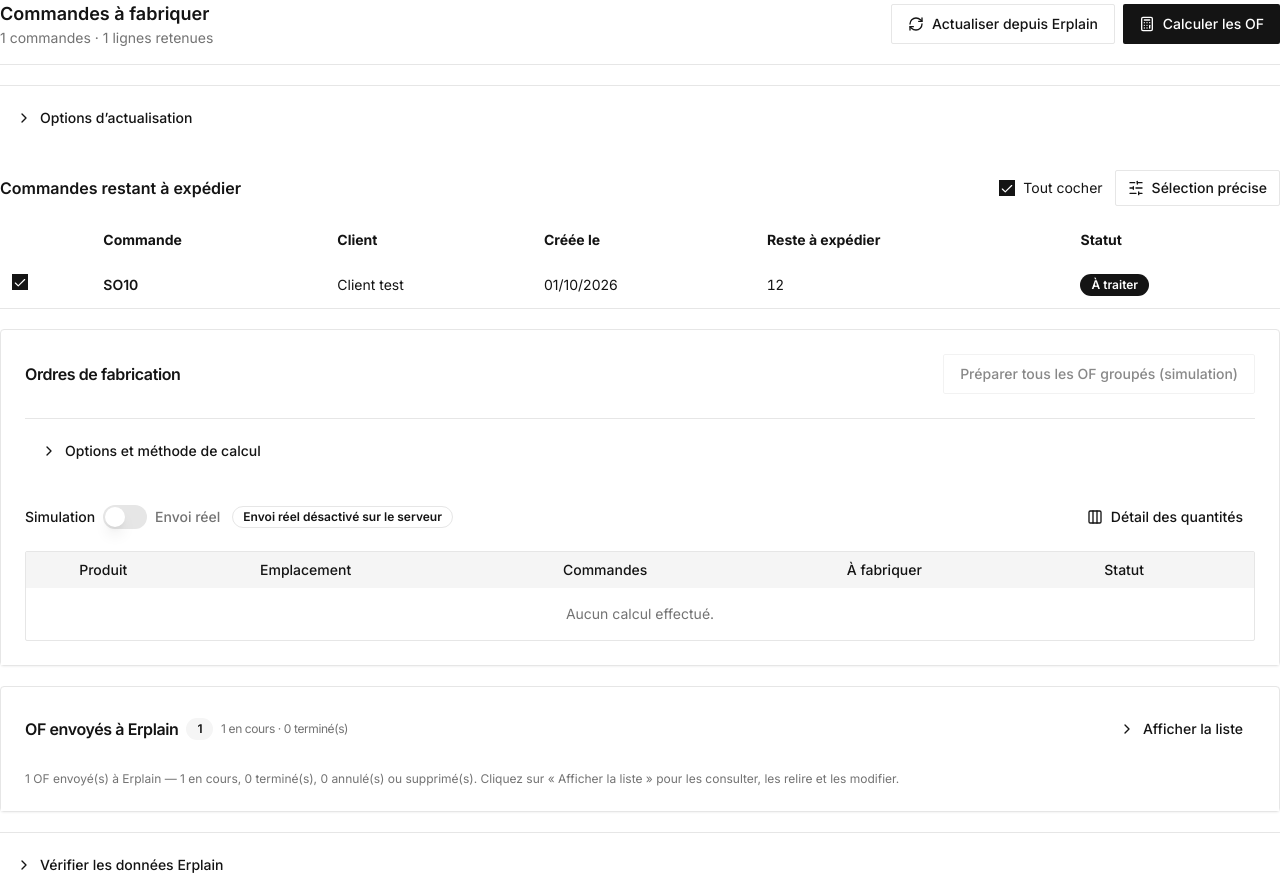
Test case: Workshop order columns › hides and shows columns using the visible checkbox menu
Expected: the text "Client test" is shown, 325,262 -> 532,308
Click the button "Sélection précise": (1197,188) 1115,170 -> 1279,206
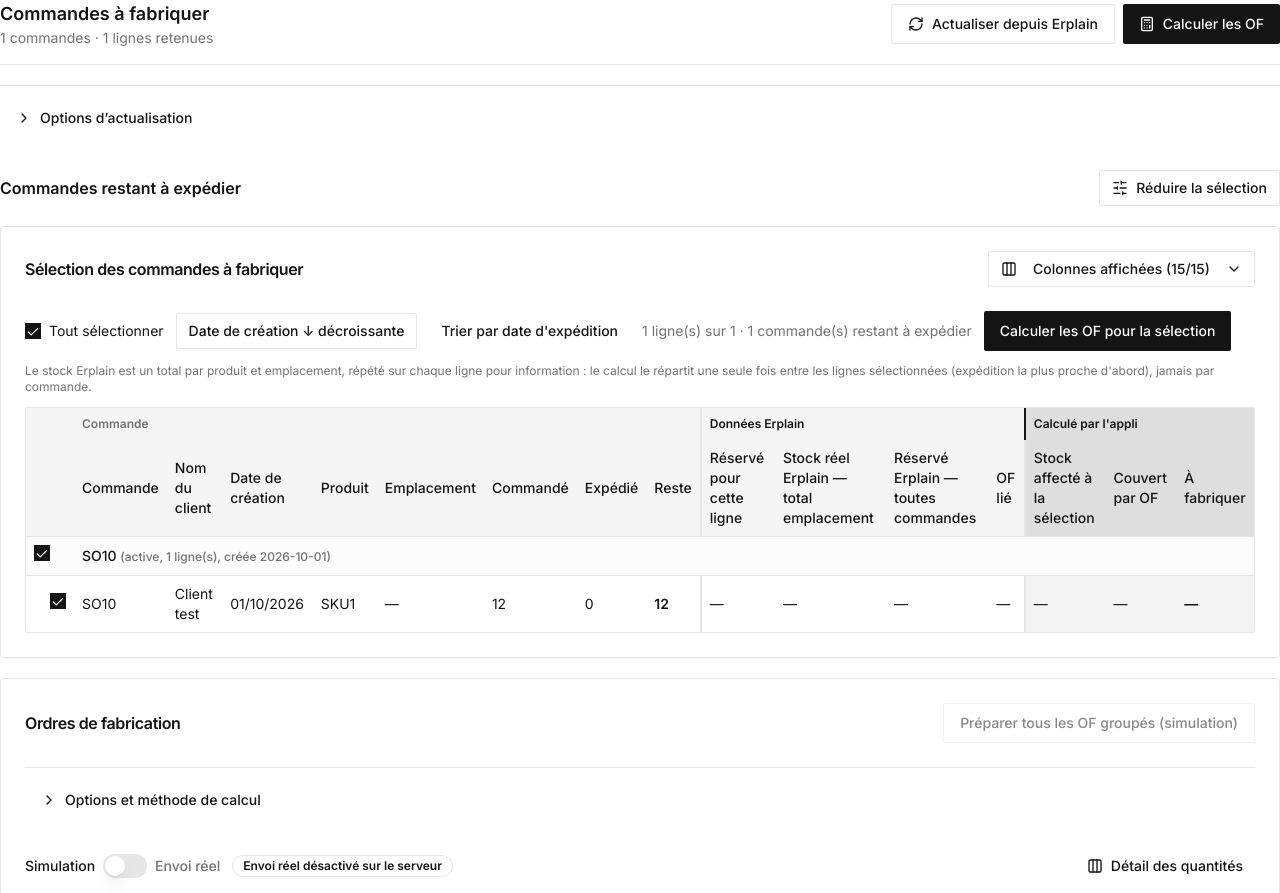
Press Enter in the button "Colonnes affichées (15/15)", box 988,251 -> 1255,287
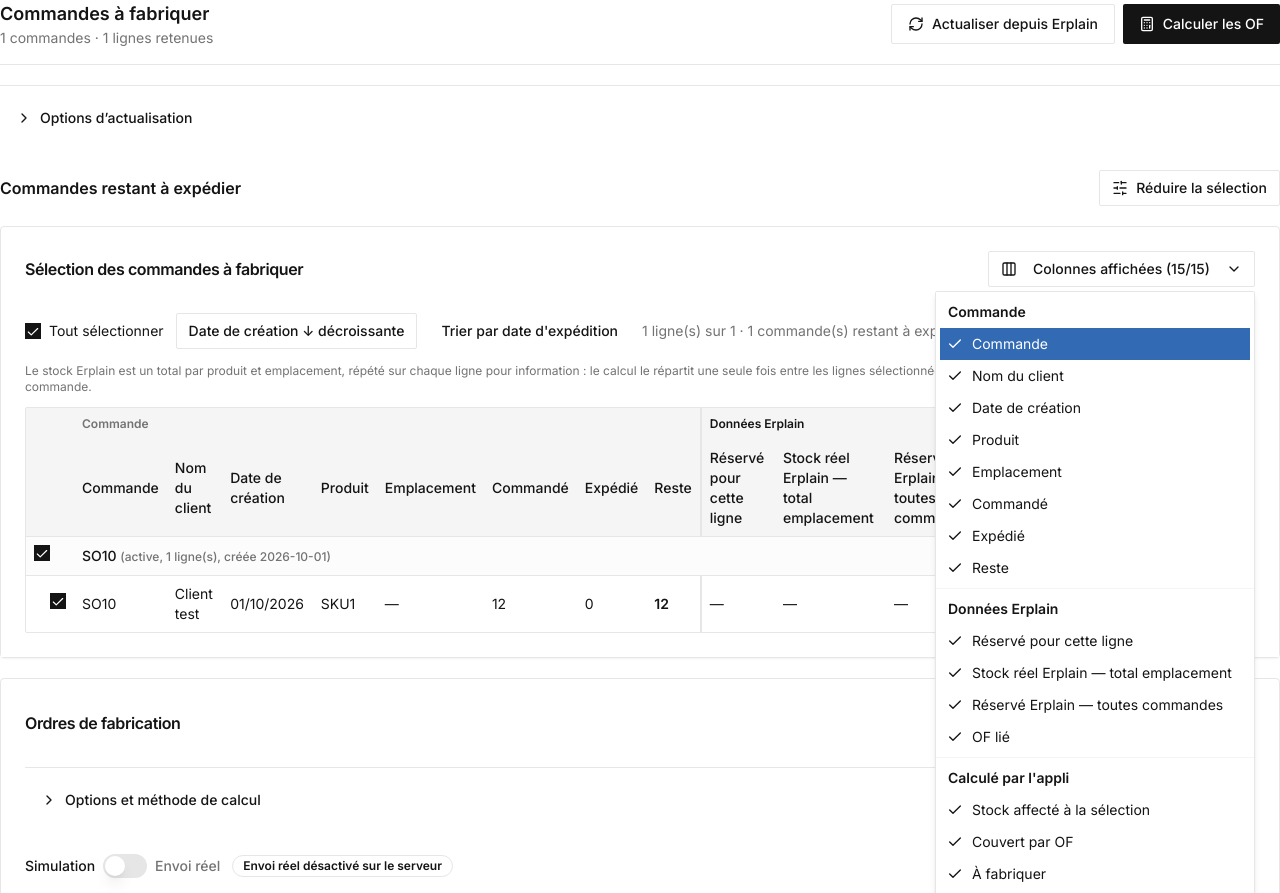
Click the menu item "Nom du client": (1005,376) 947,367 -> 1064,384
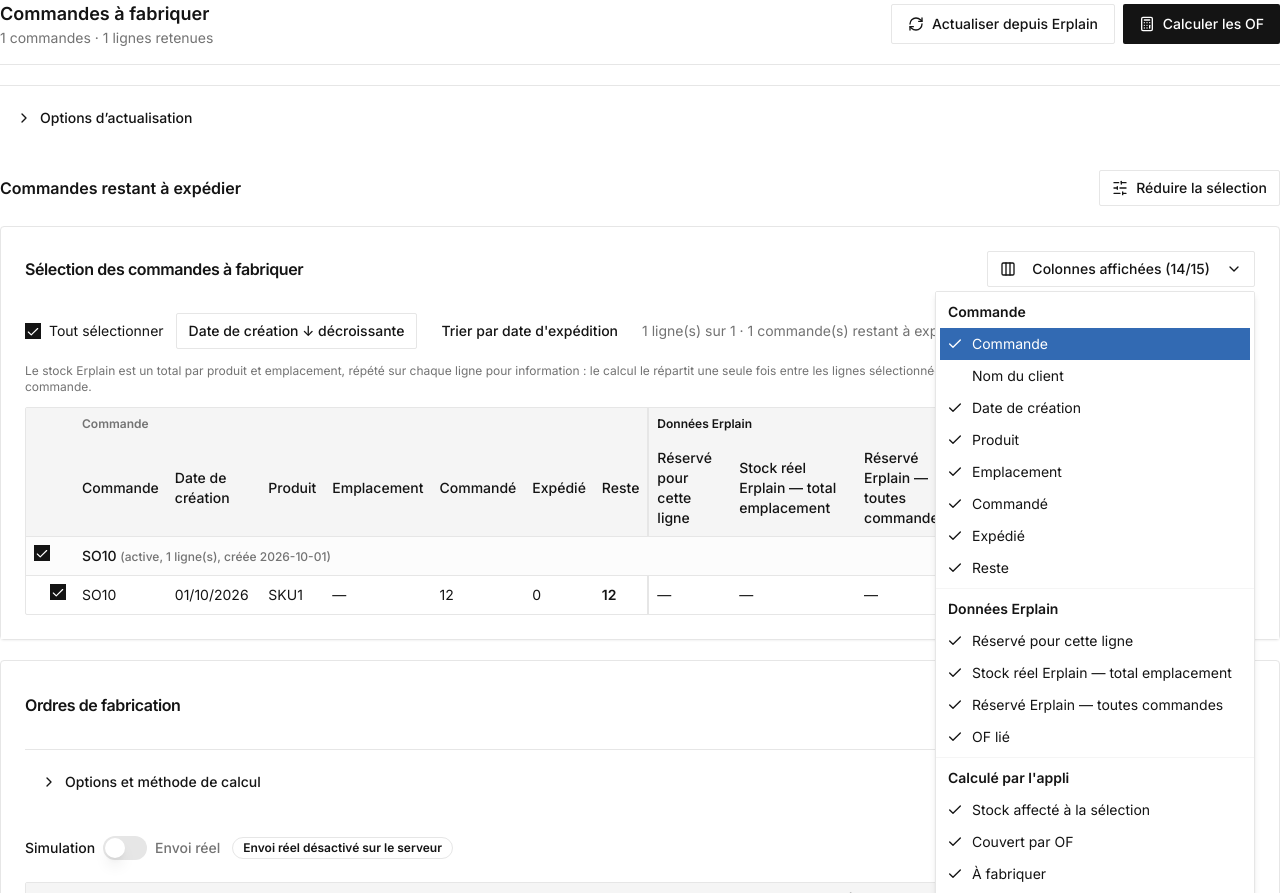
Click the menu item "Nom du client": (1018,376) 972,367 -> 1064,384
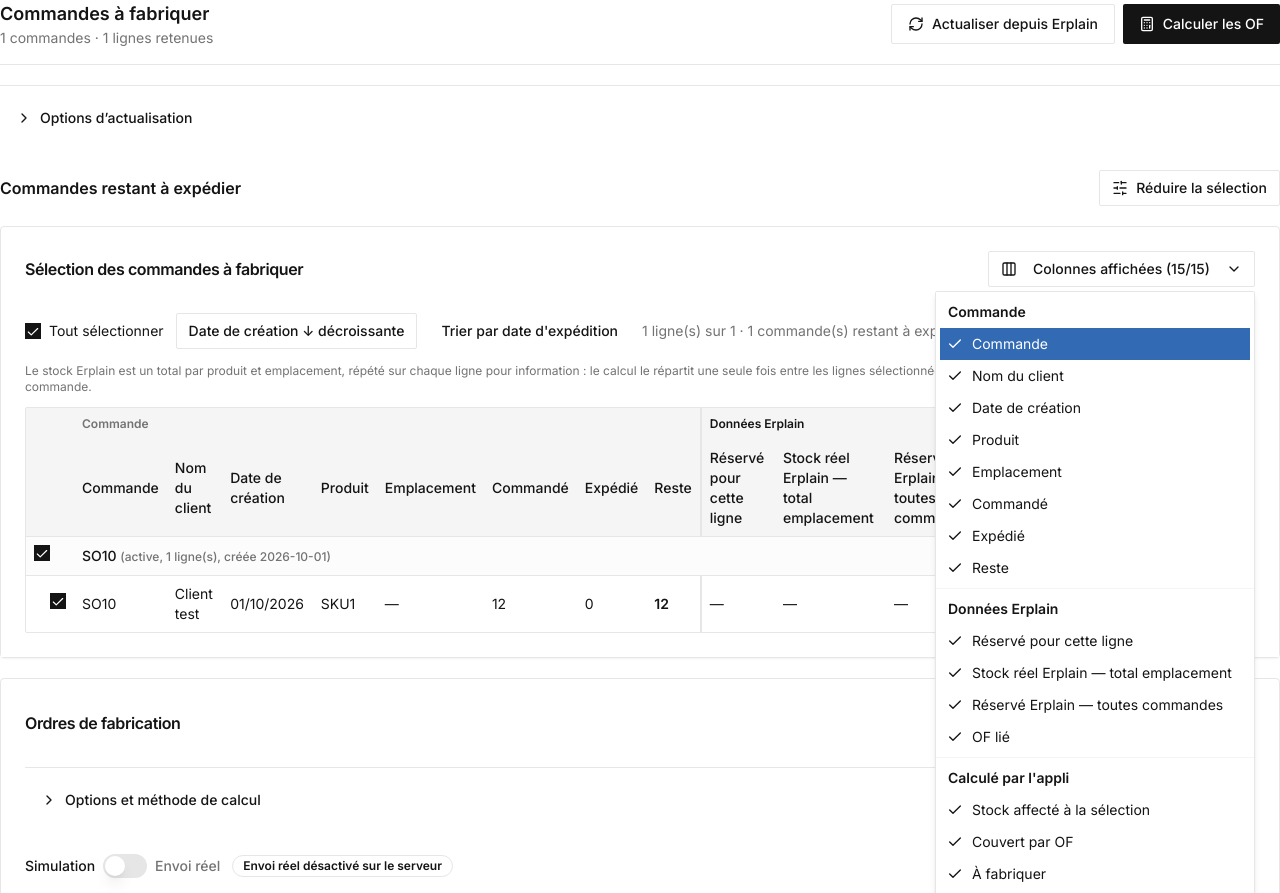
Expected: the column heading "Nom du client" is shown, 167,440 -> 222,536
